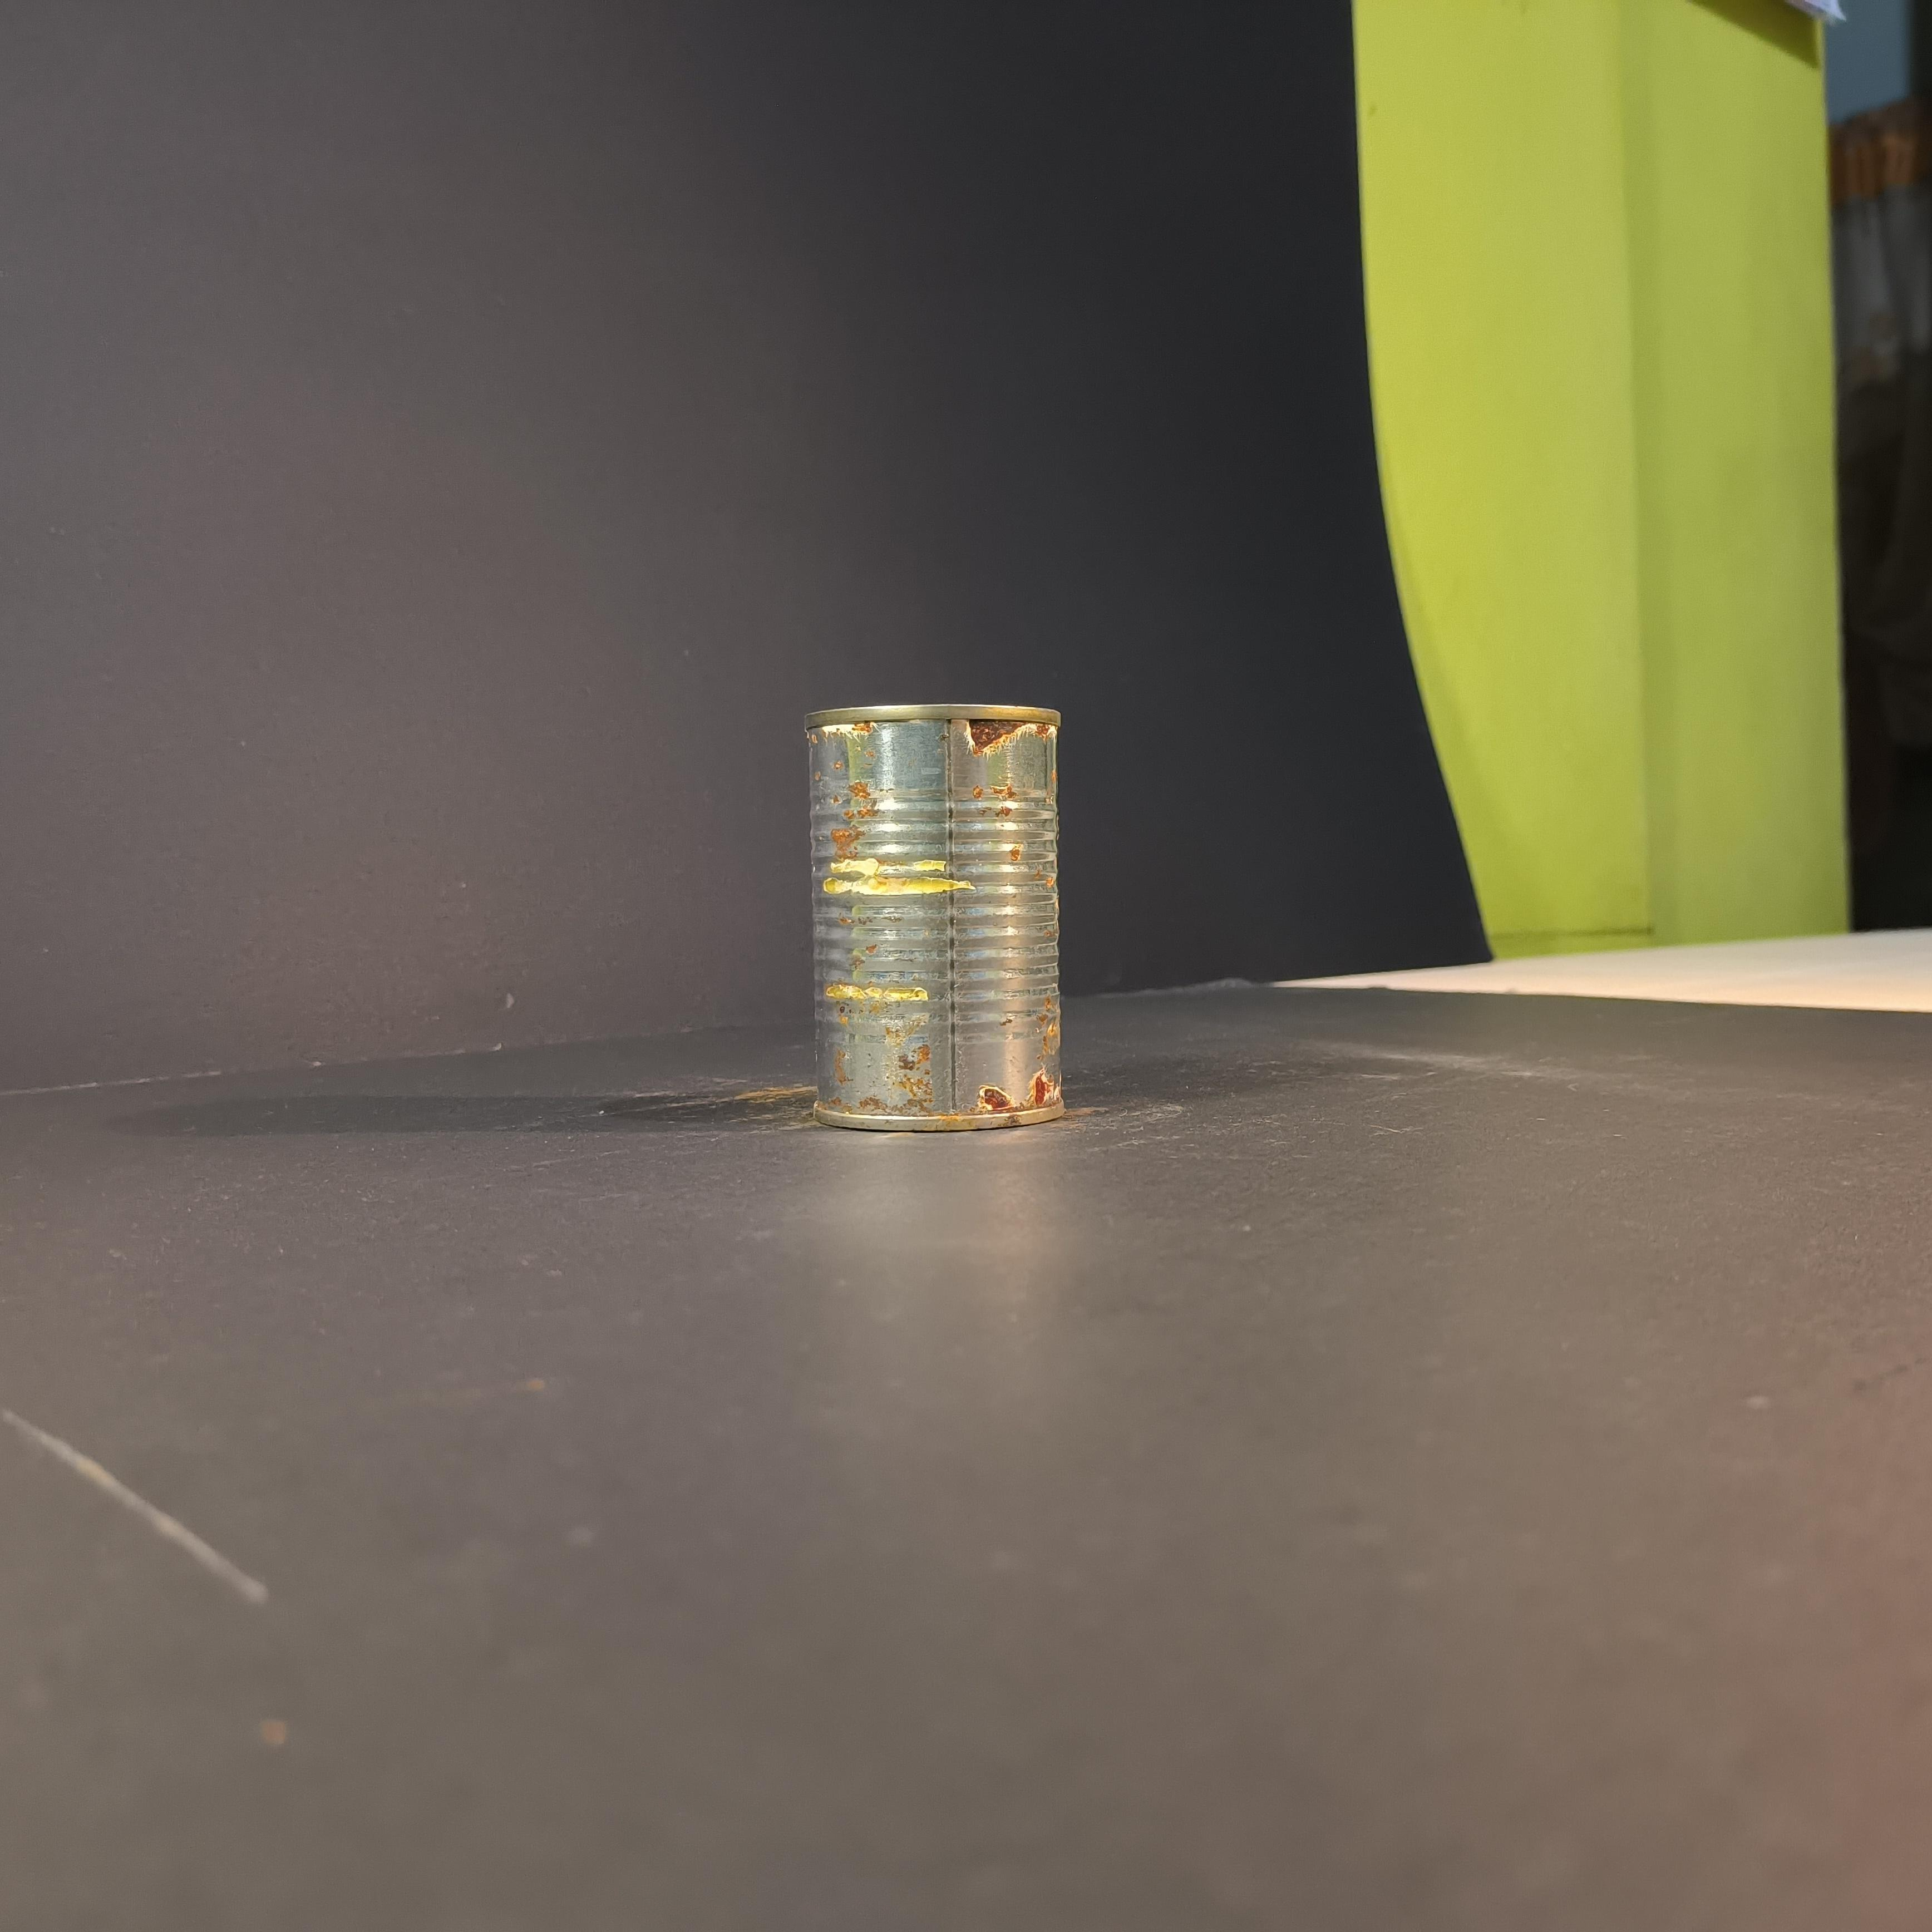Rusted: (793, 685, 1079, 1132)
